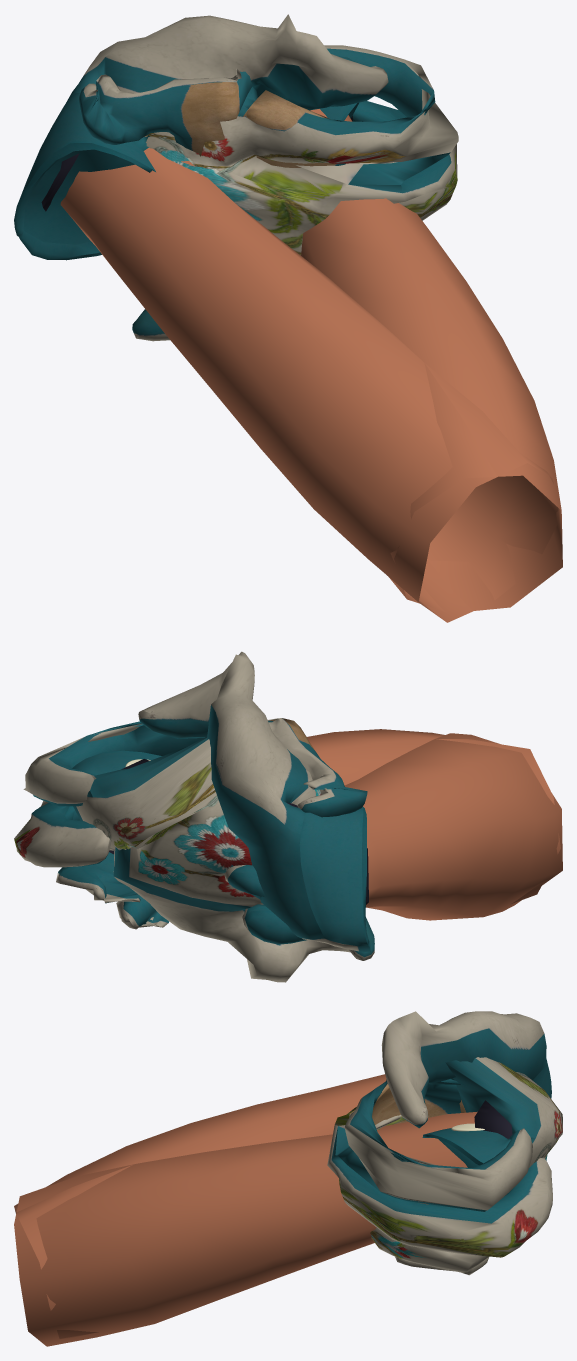
The model's file is maos_volante.glb.
3 renders of one model, top to bottom at view 1: azimuth 30°, elevation 25°; view 2: azimuth 150°, elevation 25°; view 3: azimuth 270°, elevation 25°, orthographic. The views are drawn at different scales.
Visible parts, largest first — view 1: MaoEsq, MaoDir; view 2: MaoEsq, MaoDir; view 3: MaoDir, MaoEsq.
Part boxes in pixels (x1=…): MaoEsq: x1=14, y1=14, x2=558, y2=622; MaoDir: x1=78, y1=55, x2=562, y2=611; MaoEsq: x1=14, y1=651, x2=562, y2=952; MaoDir: x1=72, y1=718, x2=560, y2=982; MaoDir: x1=14, y1=1057, x2=562, y2=1346; MaoEsq: x1=14, y1=1011, x2=552, y2=1340.
Size of the model in its own units: 0.1556 by 0.1588 by 0.2333.
3 materials, 3 textured.
